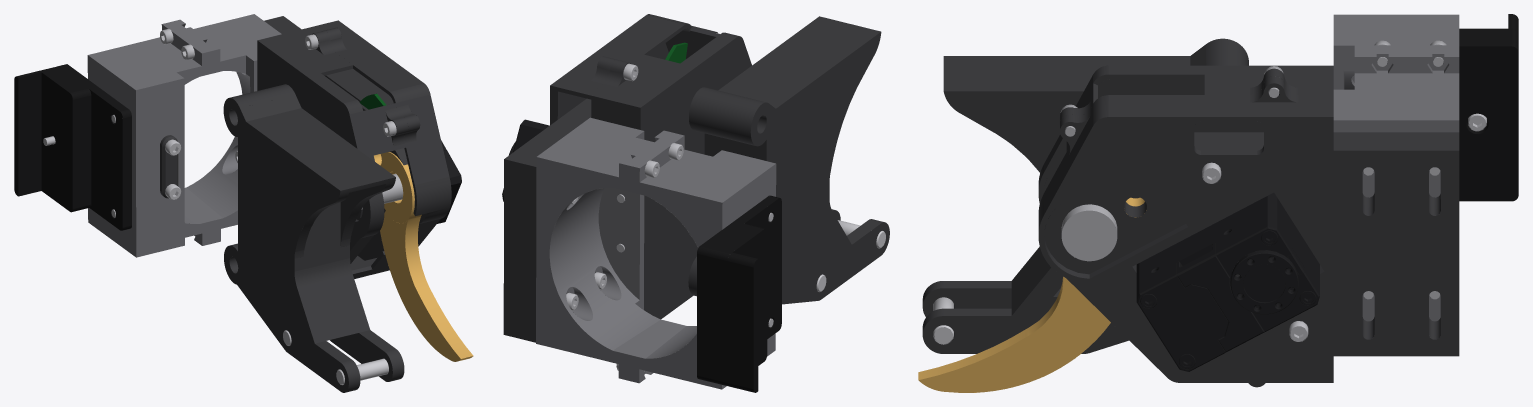
Rendered from ee_cutter.obj.
3 views of the same model, side by side, from view 1: azimuth 30°, elevation 25°; view 2: azimuth 150°, elevation 25°; view 3: azimuth 270°, elevation 25° (orthographic). The views are drawn at different scales.
Parts seen in each view (by area): view 1: cutter_fixture_cutterside:1; view 2: cutter_fixture_cutterside:1; view 3: cutter_fixture_cutterside:1.
Boxes of the visible parts, x1,y1,x2,y2 form: cutter_fixture_cutterside:1: (14,14,473,392); cutter_fixture_cutterside:1: (502,14,889,392); cutter_fixture_cutterside:1: (918,14,1518,392).
Bounding box in the file's own units: 0.1325 × 0.0994 × 0.1721.
